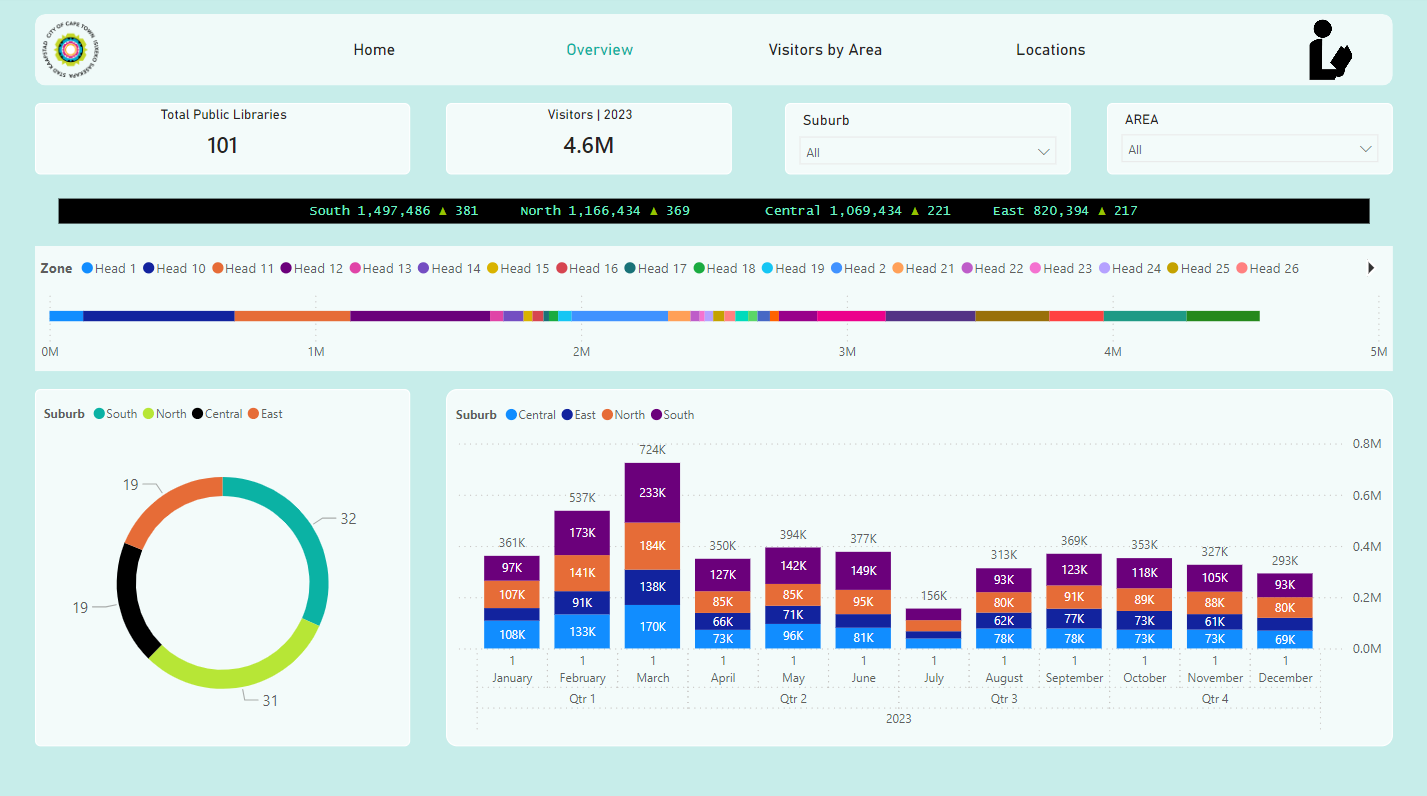

What the dashboard file says about the page in this screenshot:
{"tool":"powerbi","page":{"name":"Overview","canvas":[1280,720],"ordinal":1},"visuals":[{"type":"shape","box":[32,16,1216,64],"z":0,"group":"g1"},{"type":"group","id":"g1","title":"Group 1","box":[32,16,1216,64],"z":0},{"type":"image","box":[32,16,64,64],"z":1000,"group":"g1"},{"type":"donutChart","fields":{"Category":["Library.Suburb"],"Y":["CountNonNull(Library.Total)"]},"box":[32,352,336,320],"z":1000},{"type":"image","box":[1168,16,48,64],"z":2000,"group":"g1"},{"type":"card","title":"Total Public Libraries","fields":{"Values":["CountNonNull(Library.Total)"]},"box":[32,96,336,64],"z":2000},{"type":"columnChart","fields":{"Category":["Table1.Attribute.Variation.Date Hierarchy.Year","Table1.Attribute.Variation.Date Hierarchy.Quarter","Table1.Attribute.Variation.Date Hierarchy.Month","Table1.Attribute.Variation.Date Hierarchy.Day"],"Y":["Sum(Table1.Value)"],"Series":["Table1.Suburb"]},"box":[400,352,848,320],"z":3000},{"type":"card","title":"Visitors | 2023","fields":{"Values":["Sum(Table1.Value)"]},"box":[400,96,256,64],"z":4000},{"type":"pageNavigator","box":[240,32,800,32],"z":4001,"group":"g1"},{"type":"slicer","title":"Visitors | 2023","fields":{"Values":["Library.Suburb"]},"box":[704,96,256,64],"z":5000},{"type":"slicer","title":"Visitors | 2023","fields":{"Values":["Library.AREA"]},"box":[992,96,256,64],"z":6000},{"type":"barChart","fields":{"Y":["Sum(Library.Total)"],"Series":["Library.Zone"]},"box":[32,224,1216,112],"z":7000},{"type":"ScrollingTextVisual1448795304508","fields":{"Category":["Table1.Suburb"],"Measure Absolute":["Sum(Table1.Value)"],"Measure Deviation":["CountNonNull(Table1.Zone)"]},"box":[48,176,1184,32],"z":8000}]}

Visuals, with their boxes in screenshot pixels (x1, y1, x2, y2), scaled from the page's 1280x720 canvas onto the 1427x796 screenshot:
shape: [x1=36, y1=18, x2=1391, y2=88]
"Group 1" group: [x1=36, y1=18, x2=1391, y2=88]
image: [x1=36, y1=18, x2=107, y2=88]
donutChart - Library.Suburb x CountNonNull(Library.Total): [x1=36, y1=389, x2=410, y2=743]
image: [x1=1302, y1=18, x2=1356, y2=88]
"Total Public Libraries" card: [x1=36, y1=106, x2=410, y2=177]
columnChart - Table1.Attribute.Variation.Date Hierarchy.Year x Table1.Attribute.Variation.Date Hierarchy.Quarter: [x1=446, y1=389, x2=1391, y2=743]
"Visitors | 2023" card: [x1=446, y1=106, x2=731, y2=177]
pageNavigator: [x1=268, y1=35, x2=1159, y2=71]
"Visitors | 2023" slicer: [x1=785, y1=106, x2=1070, y2=177]
"Visitors | 2023" slicer: [x1=1106, y1=106, x2=1391, y2=177]
barChart - Sum(Library.Total) x Library.Zone: [x1=36, y1=248, x2=1391, y2=371]
ScrollingTextVisual1448795304508 - Table1.Suburb x Sum(Table1.Value): [x1=54, y1=195, x2=1373, y2=230]
